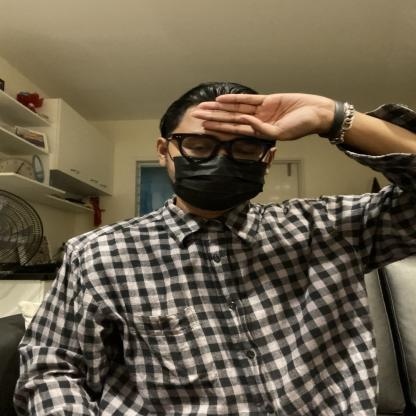Sick: (133, 64, 361, 158)
